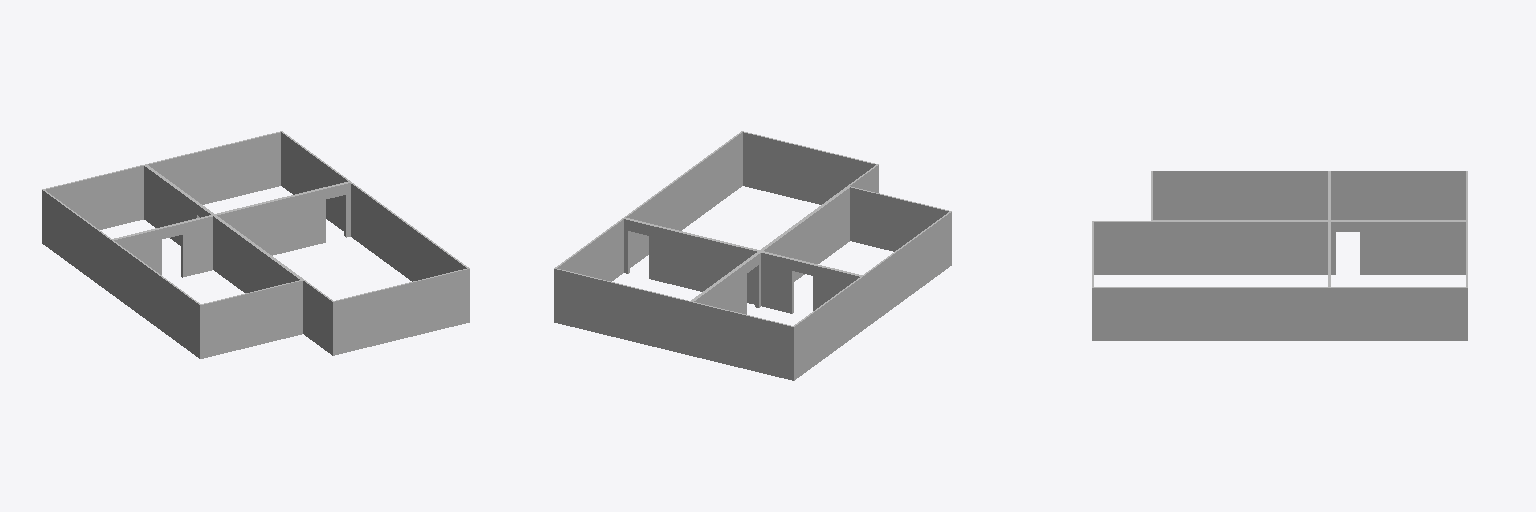
The model's file is house_basement_wall.obj.
3 views of the same model, side by side, from view 1: azimuth 30°, elevation 25°; view 2: azimuth 150°, elevation 25°; view 3: azimuth 270°, elevation 25° (orthographic).
Parts seen in each view (by area): view 1: Cube.048_Mesh, Cube.059_Mesh, Cube.053_Mesh, Cube.046_Mesh, Cube.049_Mesh, Cube.050_Mesh, Cube.052_Mesh, Cube.055_Mesh, Cube.054_Mesh; view 2: Cube.048_Mesh, Cube.059_Mesh, Cube.053_Mesh, Cube.046_Mesh, Cube.049_Mesh, Cube.050_Mesh, Cube.052_Mesh, Cube.055_Mesh; view 3: Cube.046_Mesh, Cube.059_Mesh, Cube.052_Mesh, Cube.055_Mesh, Cube.054_Mesh.
Part boxes in pixels (x1,y1,x2,y2): Cube.048_Mesh: (44, 132, 280, 229); Cube.059_Mesh: (42, 189, 201, 358); Cube.053_Mesh: (112, 181, 350, 277); Cube.046_Mesh: (280, 131, 469, 322); Cube.049_Mesh: (334, 268, 467, 354); Cube.050_Mesh: (201, 280, 300, 358); Cube.052_Mesh: (213, 216, 303, 334); Cube.055_Mesh: (144, 165, 213, 245); Cube.054_Mesh: (303, 280, 334, 355); Cube.048_Mesh: (556, 268, 792, 379); Cube.059_Mesh: (792, 211, 951, 380); Cube.053_Mesh: (624, 218, 861, 313); Cube.046_Mesh: (554, 131, 743, 322); Cube.049_Mesh: (743, 132, 876, 204); Cube.050_Mesh: (850, 187, 949, 251); Cube.052_Mesh: (761, 186, 850, 281); Cube.055_Mesh: (691, 252, 760, 314); Cube.046_Mesh: (1092, 287, 1467, 340); Cube.059_Mesh: (1153, 171, 1465, 219); Cube.052_Mesh: (1151, 220, 1327, 274); Cube.055_Mesh: (1331, 220, 1465, 274); Cube.054_Mesh: (1092, 221, 1150, 274).
Bounding box in the file's own units: 28 × 6 × 38.